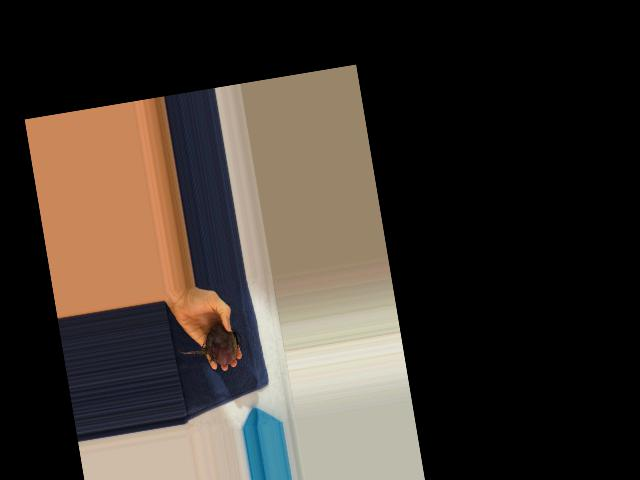beet: (175, 322, 244, 372)
